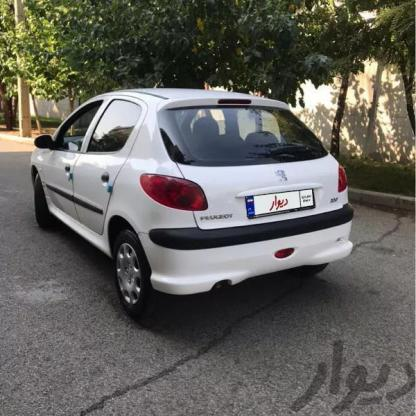Car: (18, 91, 356, 319)
